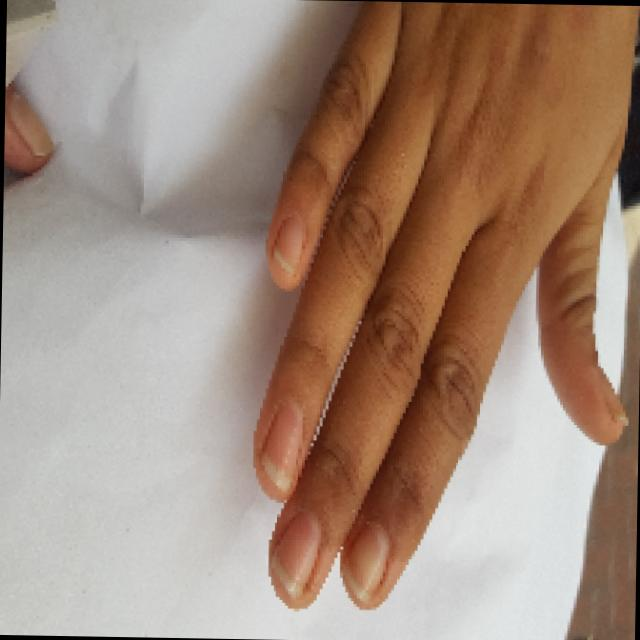Nail: (269, 510, 320, 600), (258, 399, 303, 488), (340, 521, 388, 604), (272, 213, 305, 274), (598, 364, 628, 426)
